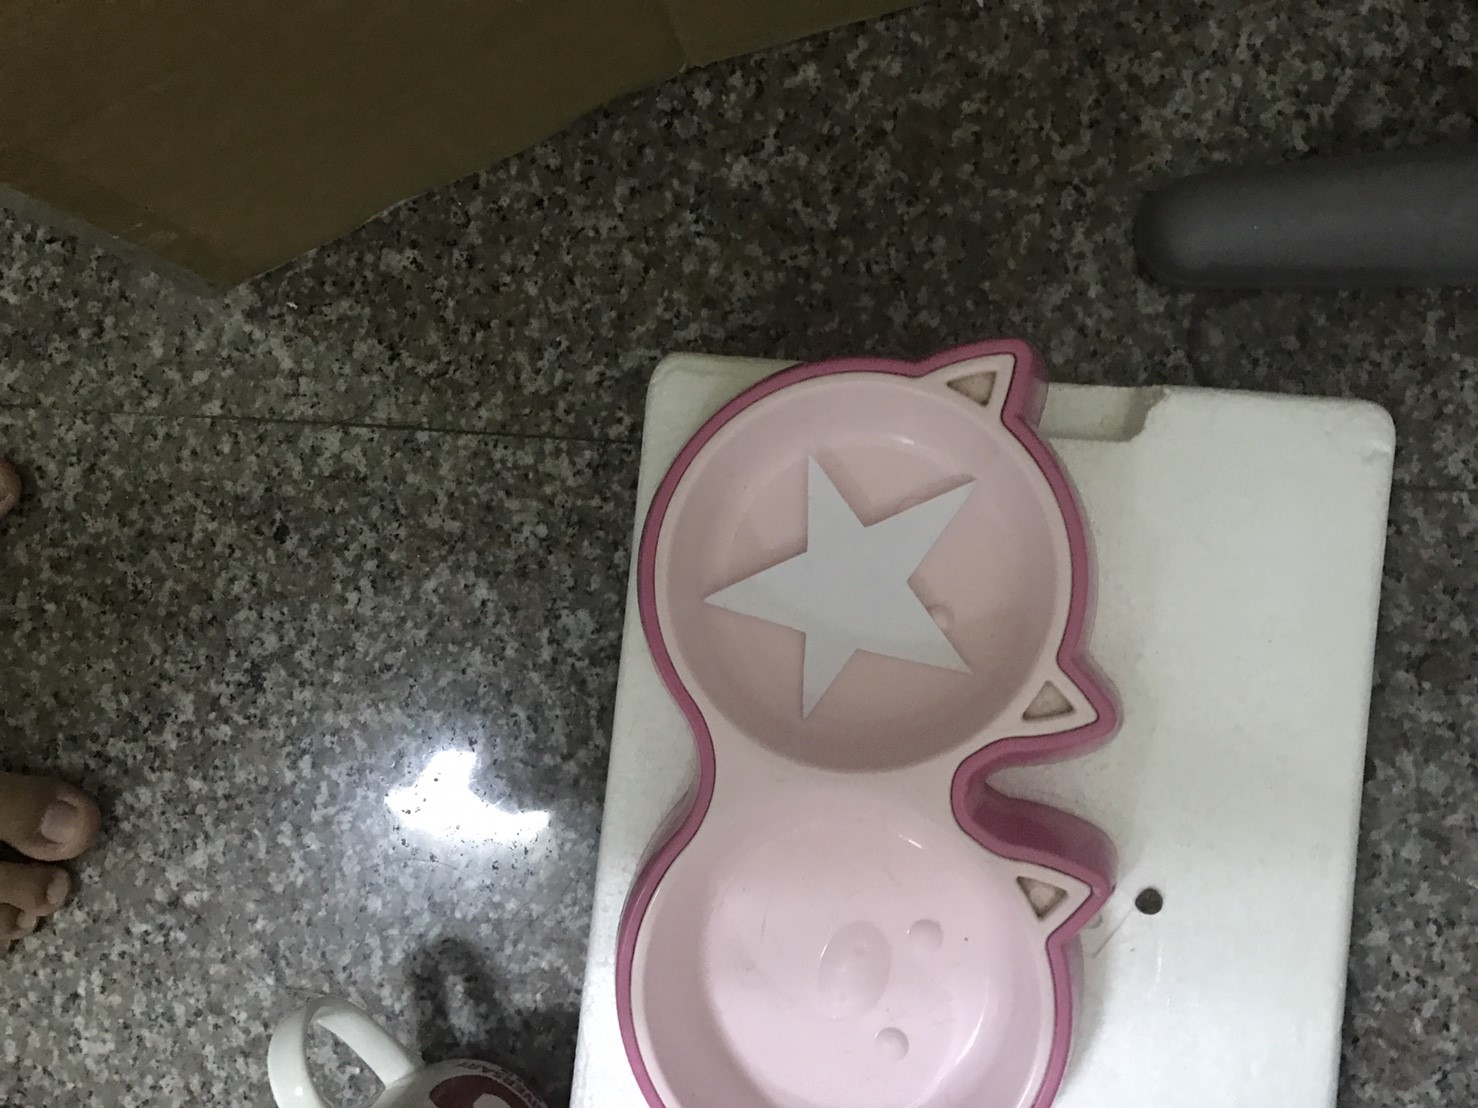star: (699, 434, 1018, 726)
